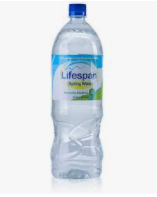Bottle: (49, 1, 105, 179)
